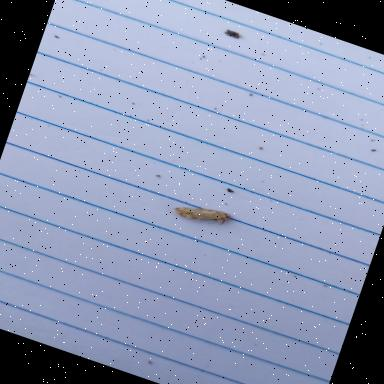pbw: (172, 196, 232, 234)
